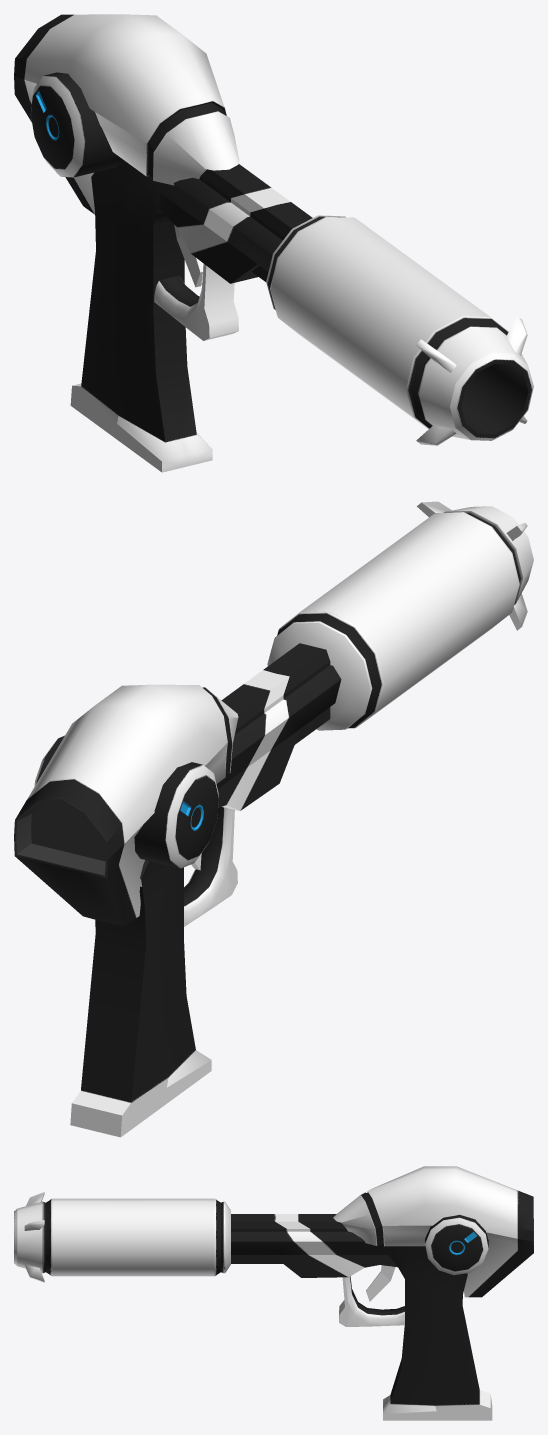
The model's file is CompletePistol.fbx.
3 views of the same model, one above another, from view 1: azimuth 30°, elevation 25°; view 2: azimuth 150°, elevation 25°; view 3: azimuth 270°, elevation 25° (orthographic). The views are drawn at different scales.
Visible parts, largest first — view 1: PistolBase, Barrel.001, ReloadBarrel; view 2: PistolBase, Barrel.001, ReloadBarrel; view 3: PistolBase, Barrel.001, ReloadBarrel.
Part boxes in pixels (x1=…): PistolBase: x1=14, y1=14, x2=312, y2=472; Barrel.001: x1=266, y1=215, x2=533, y2=445; ReloadBarrel: x1=30, y1=72, x2=121, y2=177; PistolBase: x1=14, y1=643, x2=341, y2=1137; Barrel.001: x1=267, y1=501, x2=533, y2=730; ReloadBarrel: x1=34, y1=735, x2=218, y2=868; PistolBase: x1=231, y1=1166, x2=533, y2=1420; Barrel.001: x1=14, y1=1192, x2=230, y2=1282; ReloadBarrel: x1=425, y1=1214, x2=488, y2=1275.
Bounding box in the file's own units: 226 × 1192 × 615.
